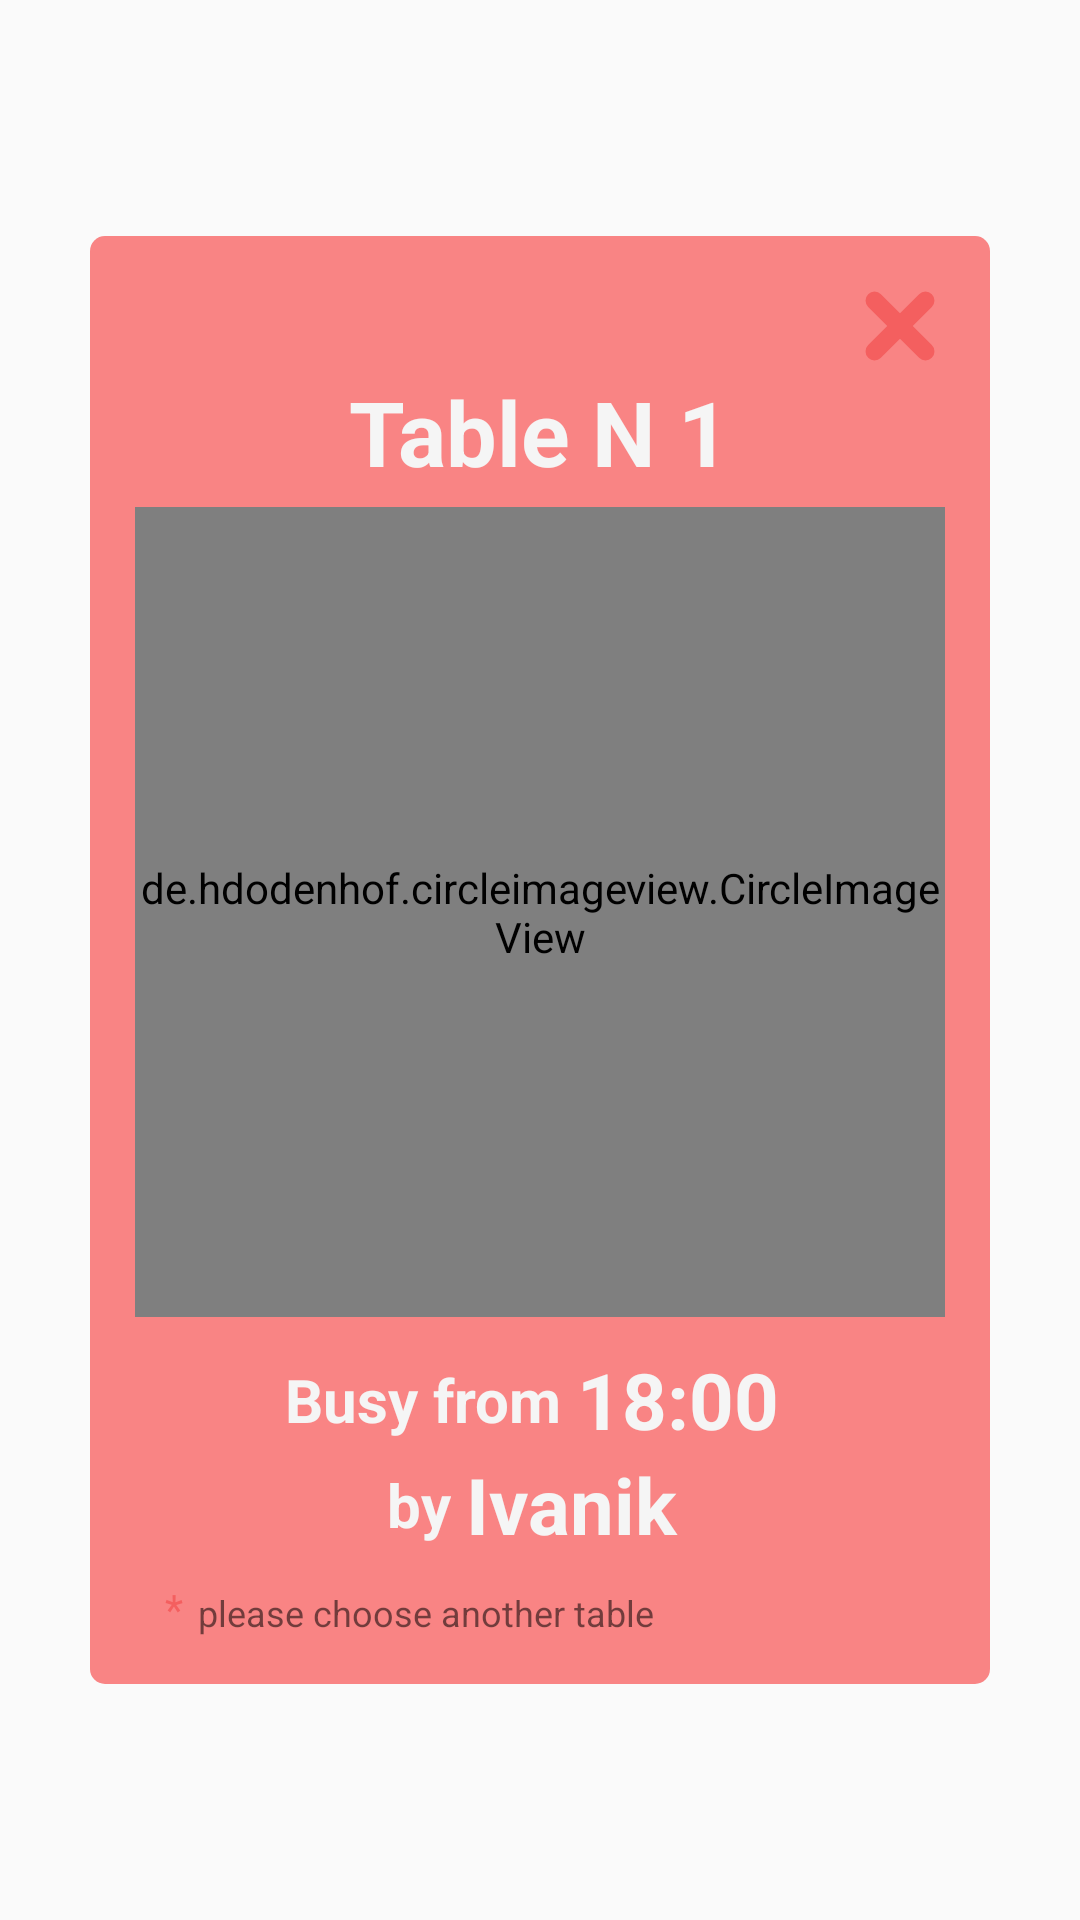

Where to tap for icons on this 1080×1920 app screen, as [x,y]:
delete item cart: [900,326]
